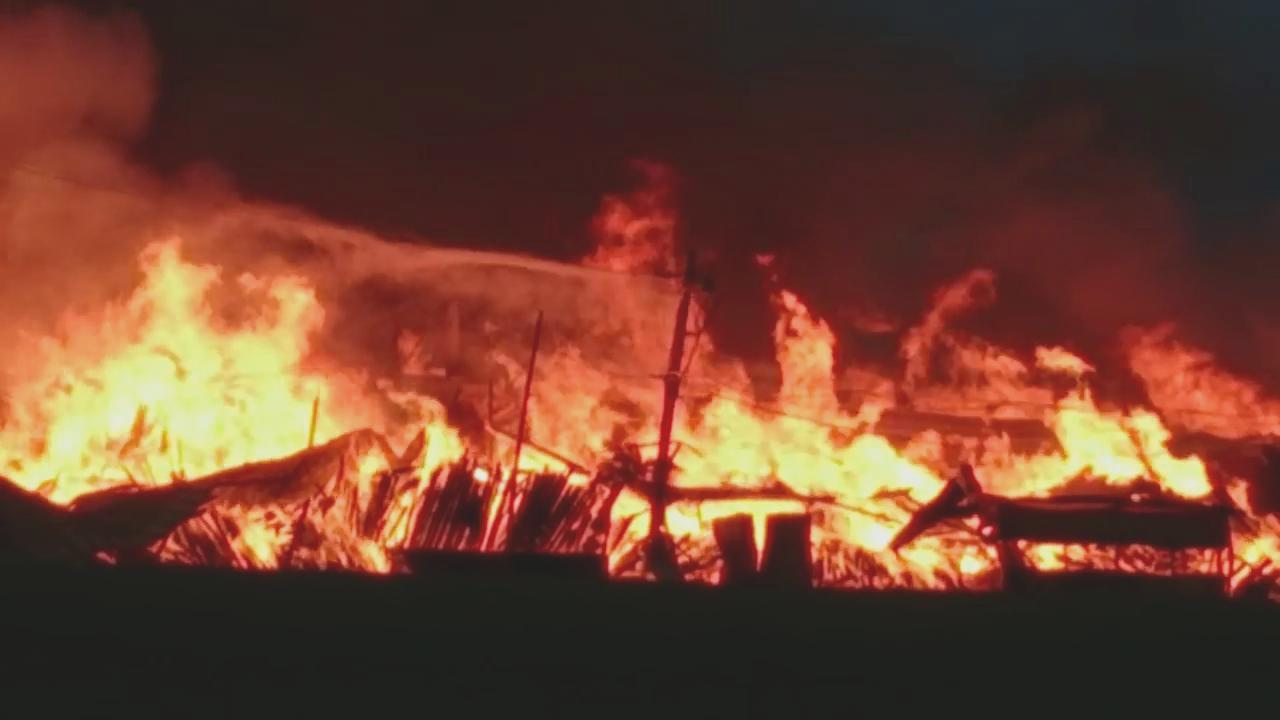Fire: (3, 163, 1278, 588)
